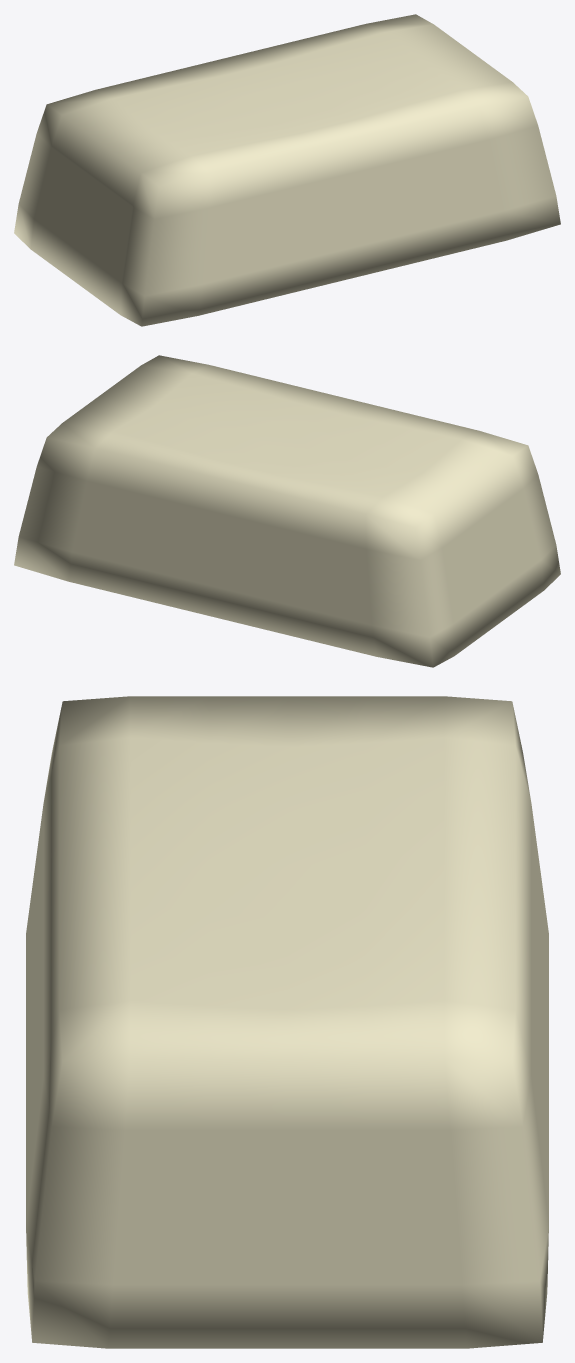
File: ingot_platinum_web.glb
3 renders of one model, top to bottom at view 1: azimuth 30°, elevation 25°; view 2: azimuth 150°, elevation 25°; view 3: azimuth 270°, elevation 25°, orthographic. The views are drawn at different scales.
Visible parts, largest first — view 1: ingot_platinum; view 2: ingot_platinum; view 3: ingot_platinum.
Boxes of the visible parts, x1,y1,x2,y2 form: ingot_platinum: [14, 14, 560, 326]; ingot_platinum: [14, 355, 560, 667]; ingot_platinum: [26, 696, 548, 1348].
Size of the model in its own units: 1 by 0.3172 by 0.5345.
